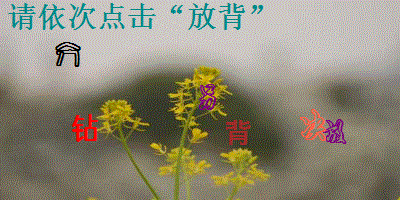text: (71, 112, 101, 144), (224, 117, 254, 148), (300, 108, 326, 143), (53, 40, 82, 68), (322, 118, 348, 146), (197, 83, 217, 110)
